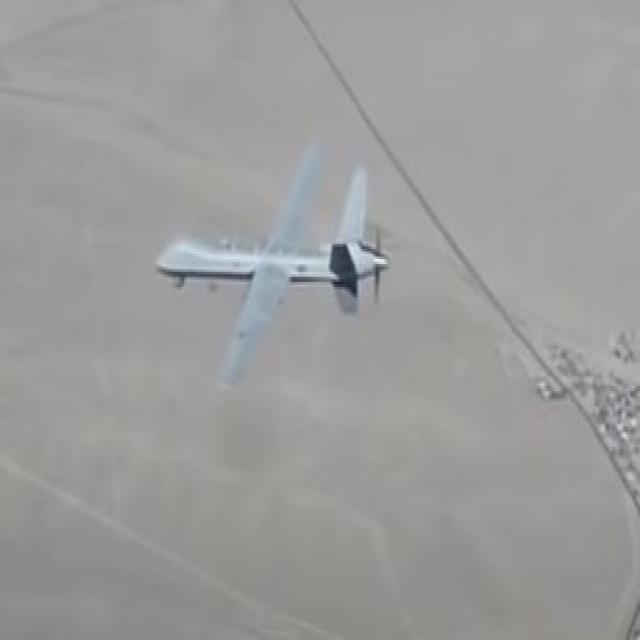iha: (156, 132, 392, 384)
